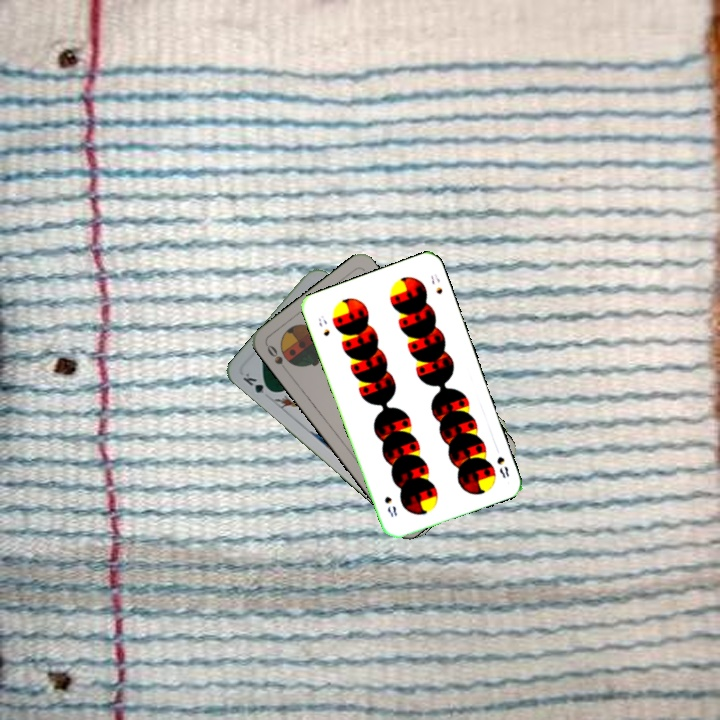GK: (239, 369, 276, 398)
S8: (493, 452, 512, 481), (314, 311, 332, 339)
SO: (263, 341, 291, 376)
